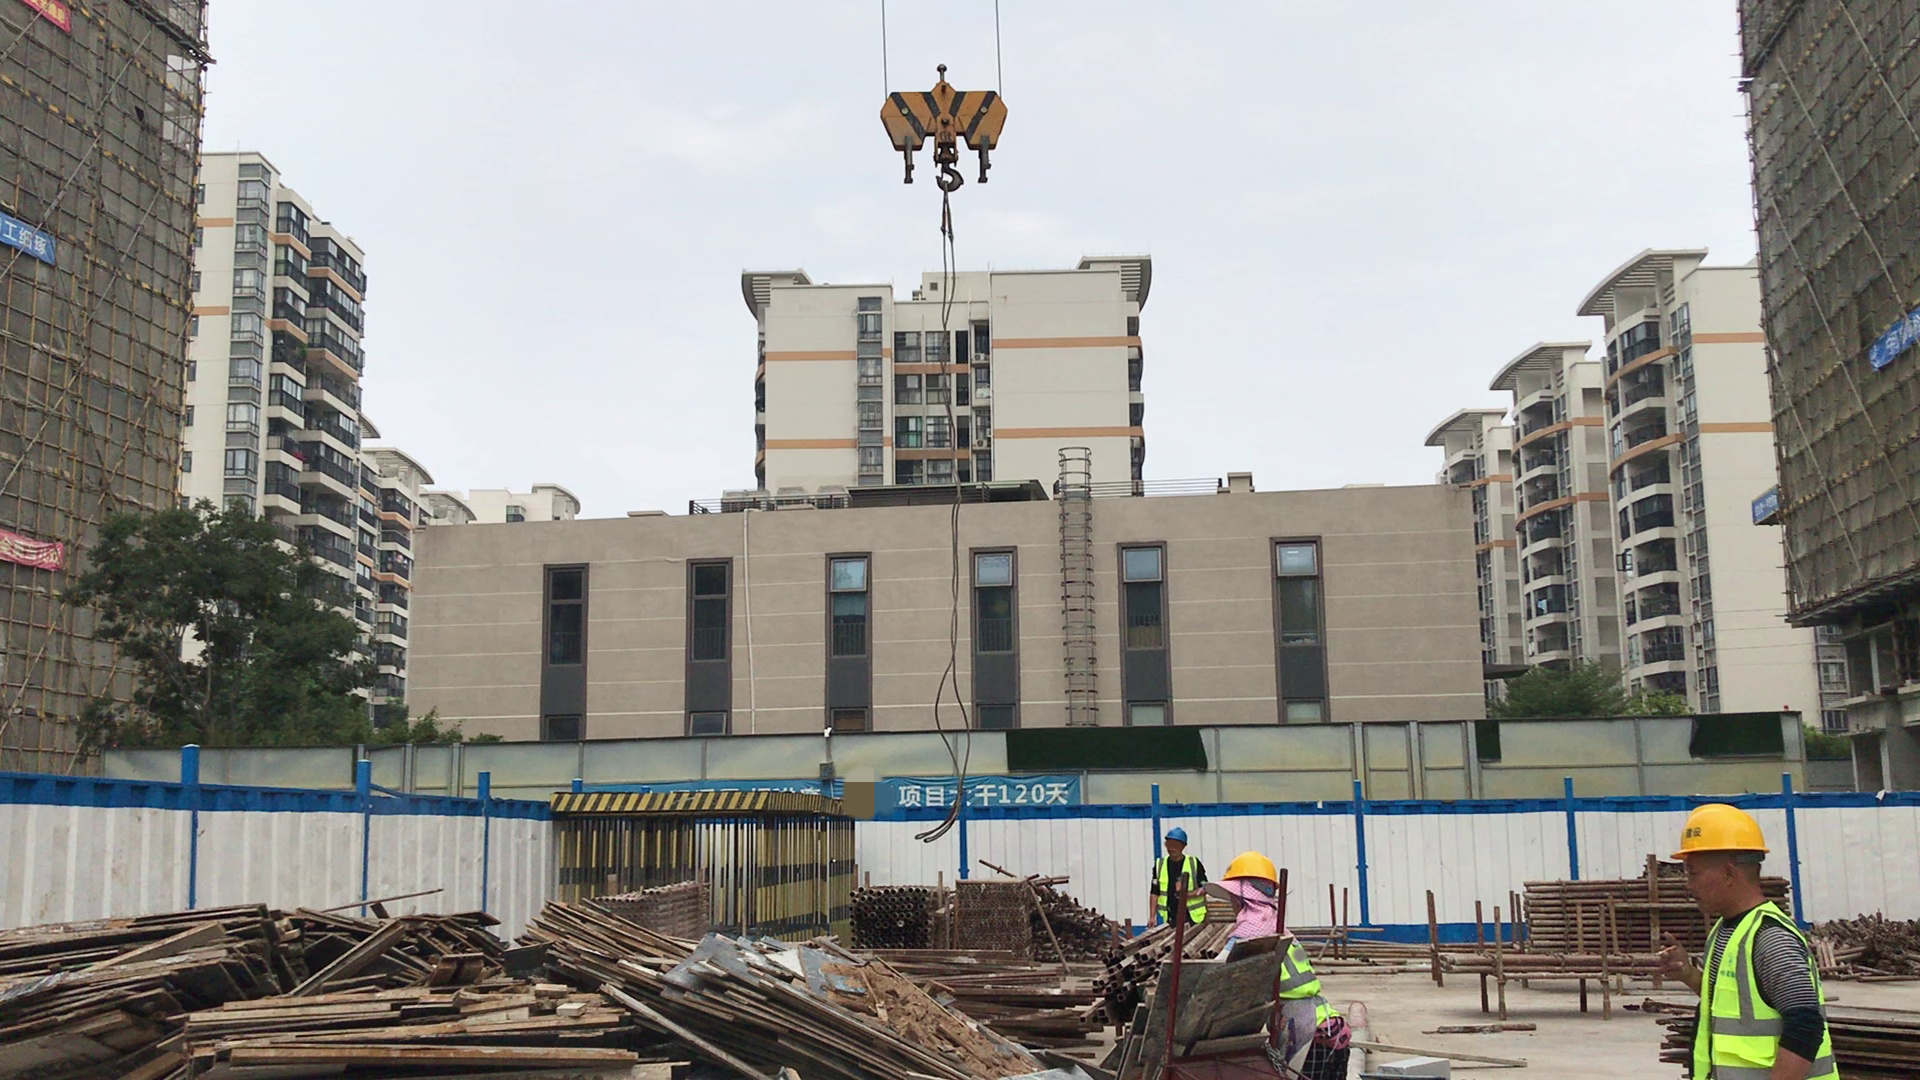helmet: (1681, 801, 1780, 866), (1229, 843, 1291, 894), (1163, 820, 1209, 857)
hook: (865, 57, 1016, 199)
person: (1643, 803, 1831, 1073), (1222, 851, 1335, 1018), (1148, 823, 1217, 930)
scaffold: (861, 874, 946, 960)
slogan: (856, 764, 1091, 819)
vest: (1681, 910, 1832, 1074), (1268, 930, 1336, 1005), (1150, 854, 1209, 919)
